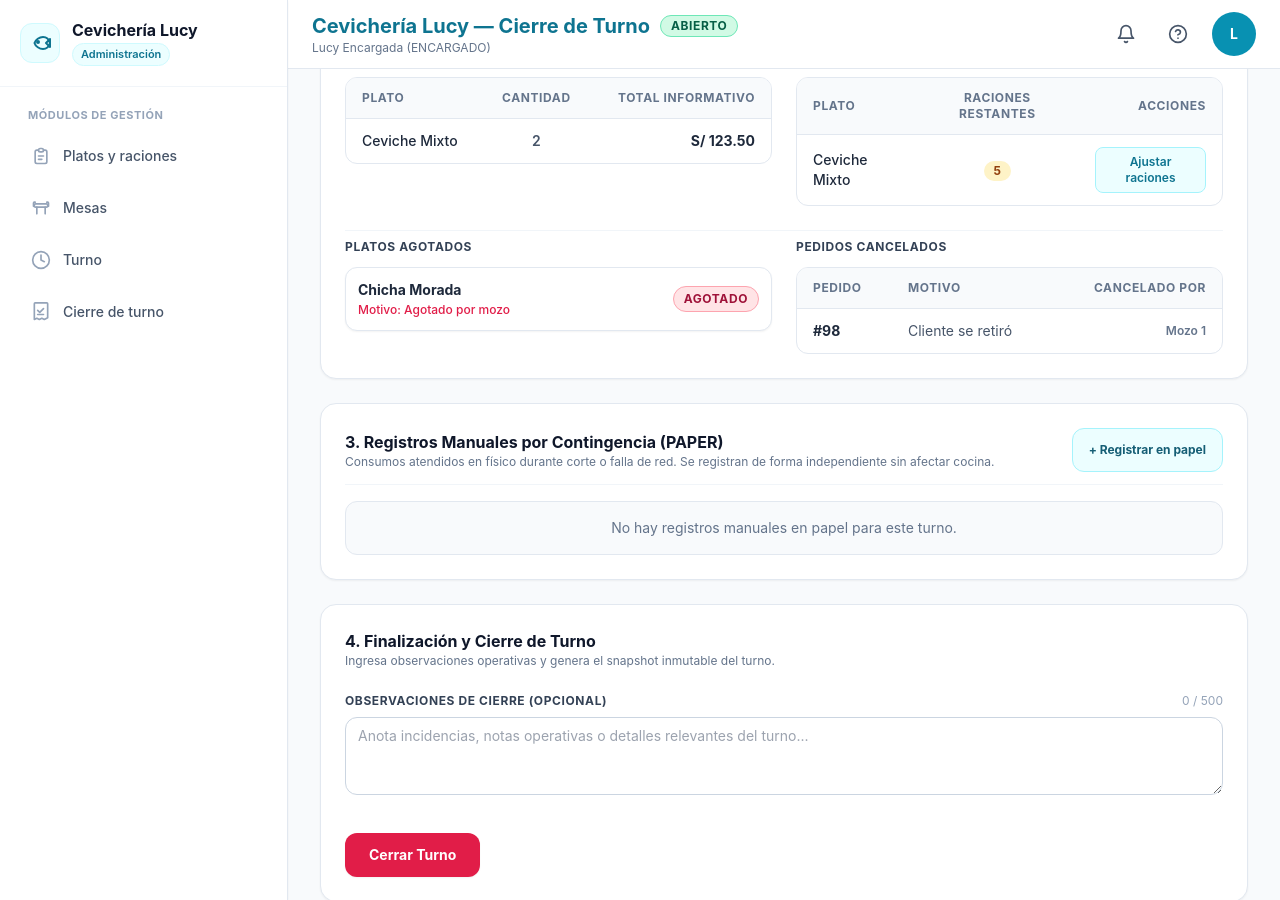
Test case: Shift Close Flow (Spec 006 Frontend) › registro manual válido e inválido: valida campos y registra comanda PAPER
The width and height of the screenshot is (1280, 900).
Later steps or results of the test are not shown.
(page scrolled)
Abrir modal de comanda en papel
Click the button "+ Registrar en papel".
click(1147, 450)  # box left=1072, top=428, right=1223, bottom=472
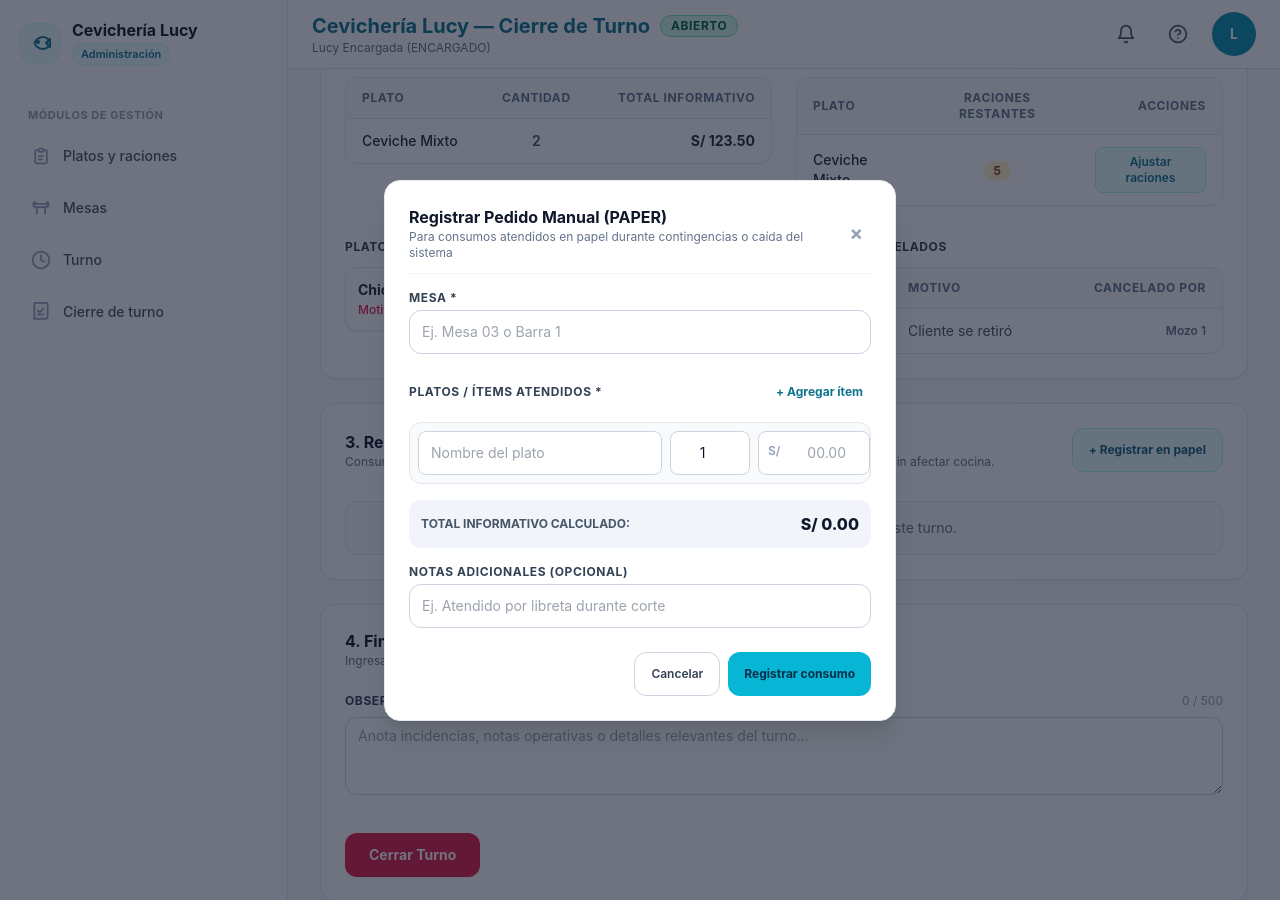
Check: the heading "Registrar Pedido Manual (PAPER)" is shown, box left=409, top=206, right=667, bottom=226
Intento inválido (mesa vacía, nombre de plato vacío)
Click the button "Registrar consumo".
click(800, 674)  # box left=728, top=652, right=871, bottom=696
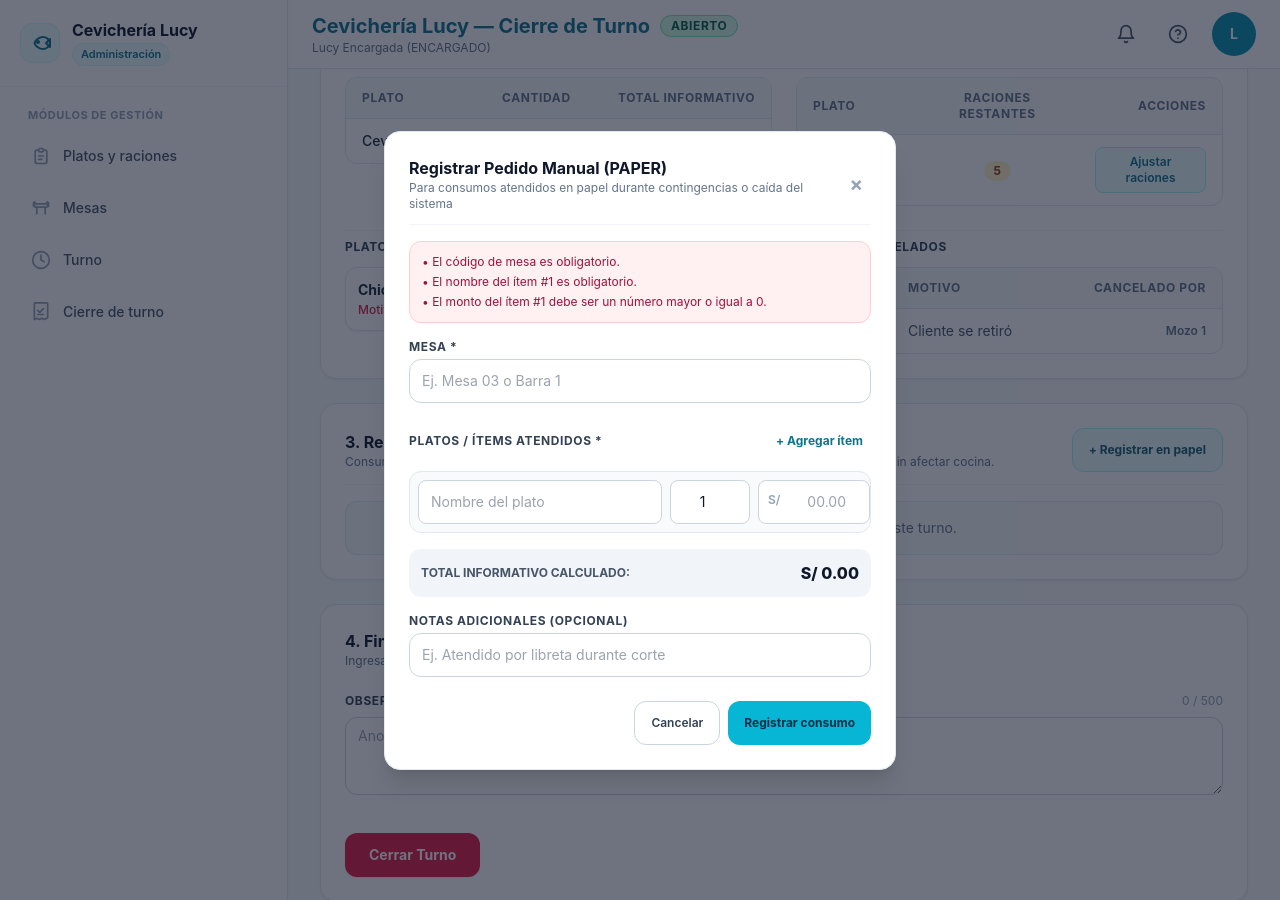
Check: the text "• El código de mesa es obligatorio." is shown, box left=422, top=254, right=620, bottom=268
Llenar campos válidos
Type "Mesa 8" into the field labelled "Mesa *".
click(640, 380); type("Mesa 8")  # box left=409, top=358, right=871, bottom=402
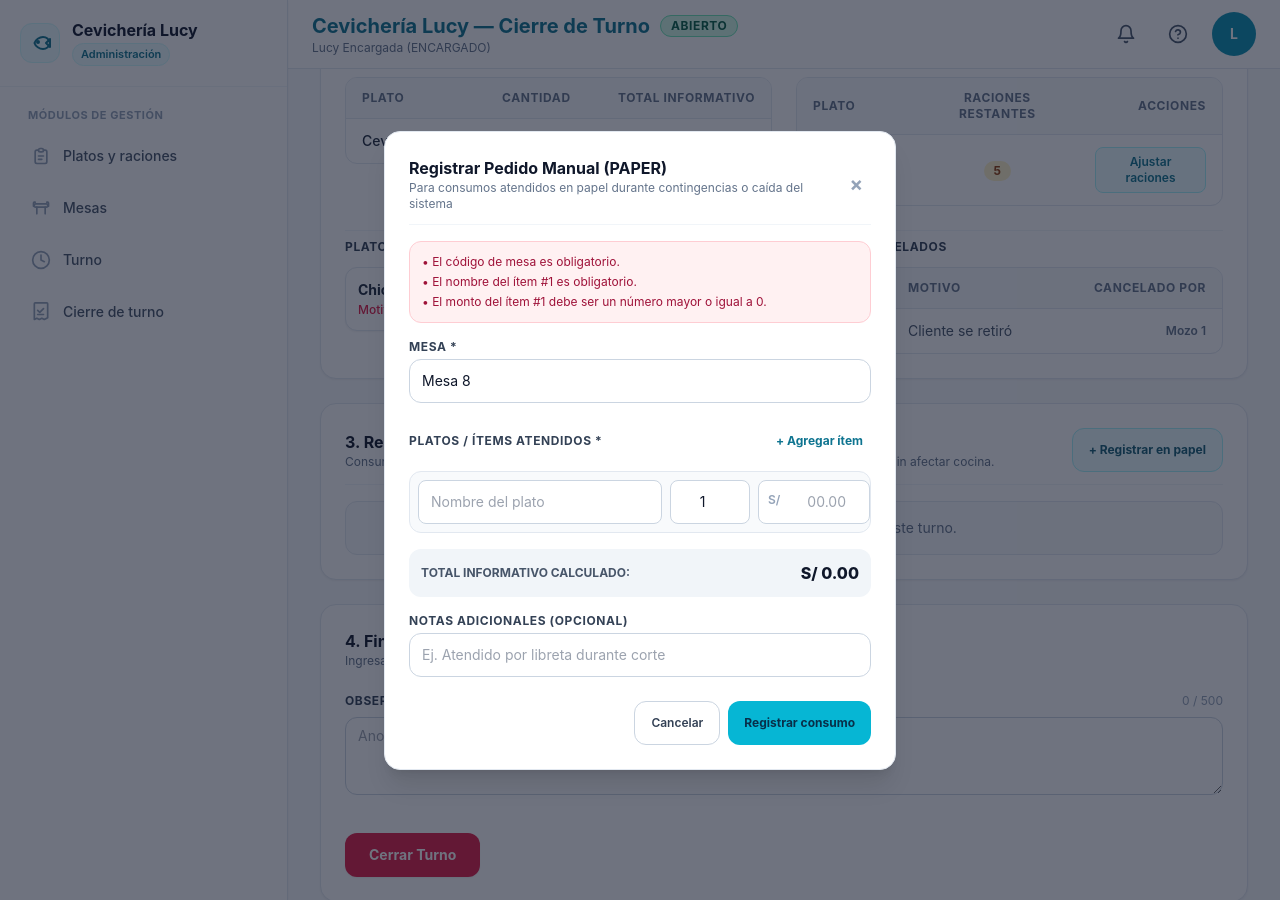
Type "Arroz con Mariscos" into the field with placeholder "Nombre del plato".
click(540, 502); type("Arroz con Mariscos")  # box left=418, top=480, right=662, bottom=524
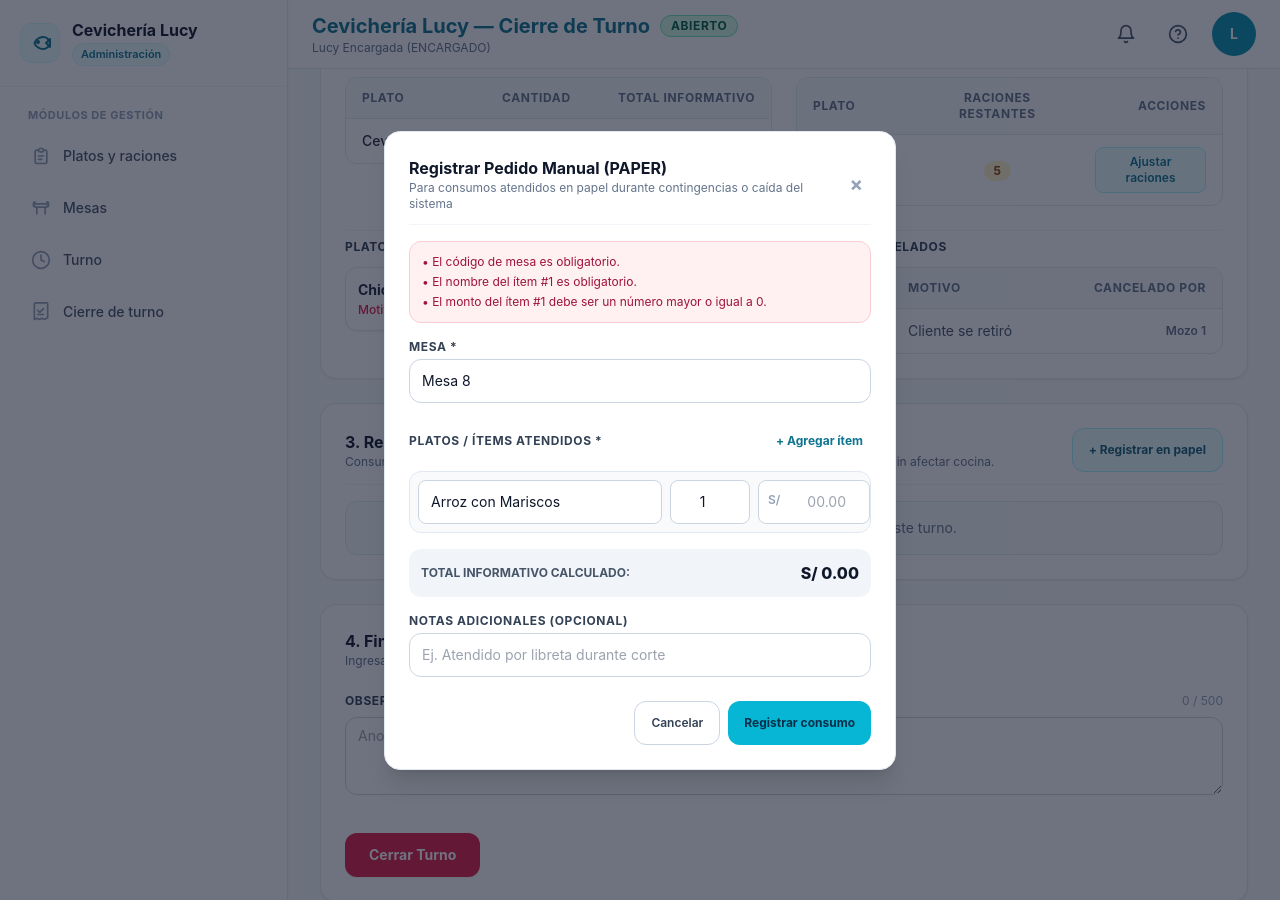
Replace the text in the number field with placeholder "Cant." with "2" at (710, 502), box left=670, top=480, right=750, bottom=524
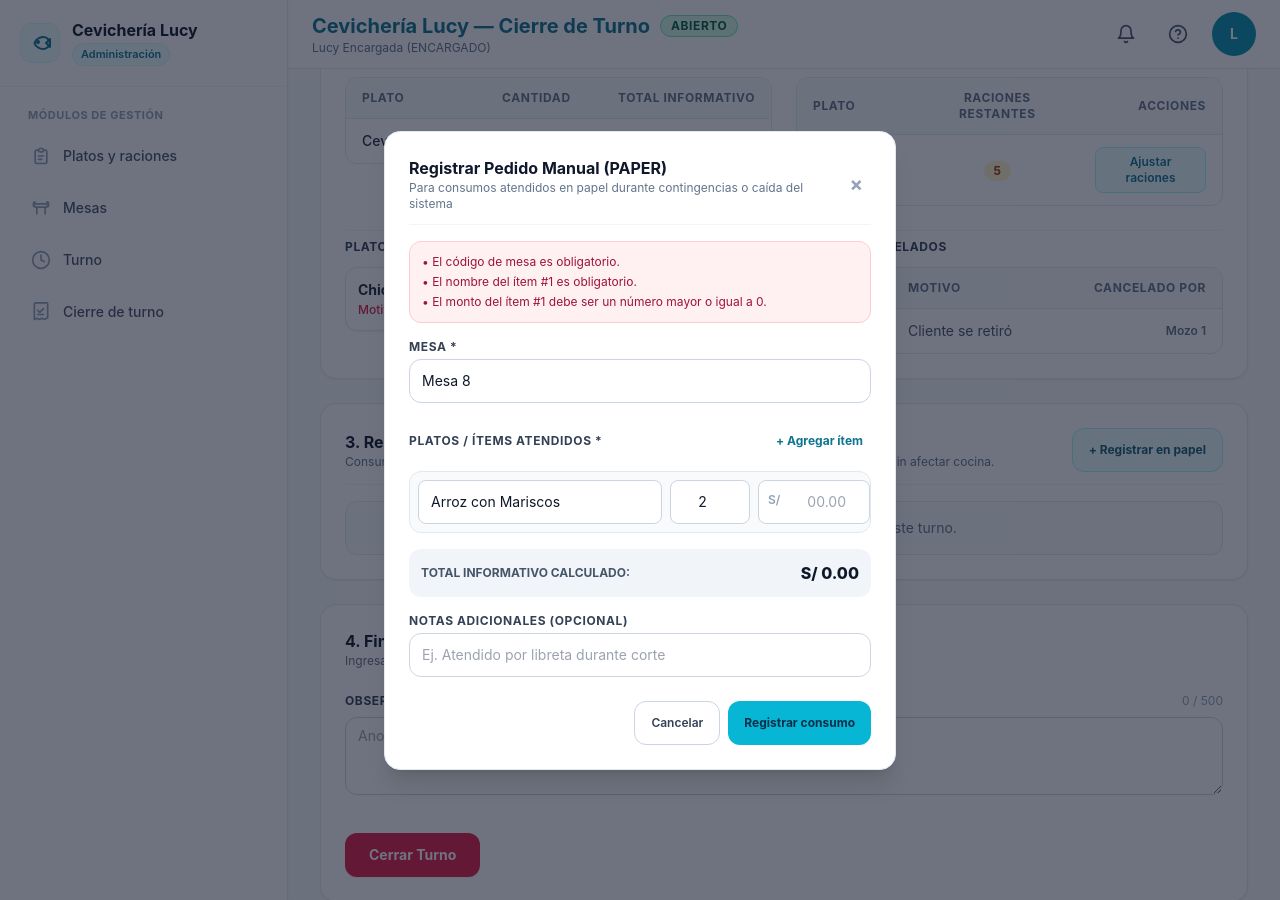
Type "60.00" into the number field with placeholder "00.00".
click(814, 502); type("60.00")  # box left=758, top=480, right=870, bottom=524
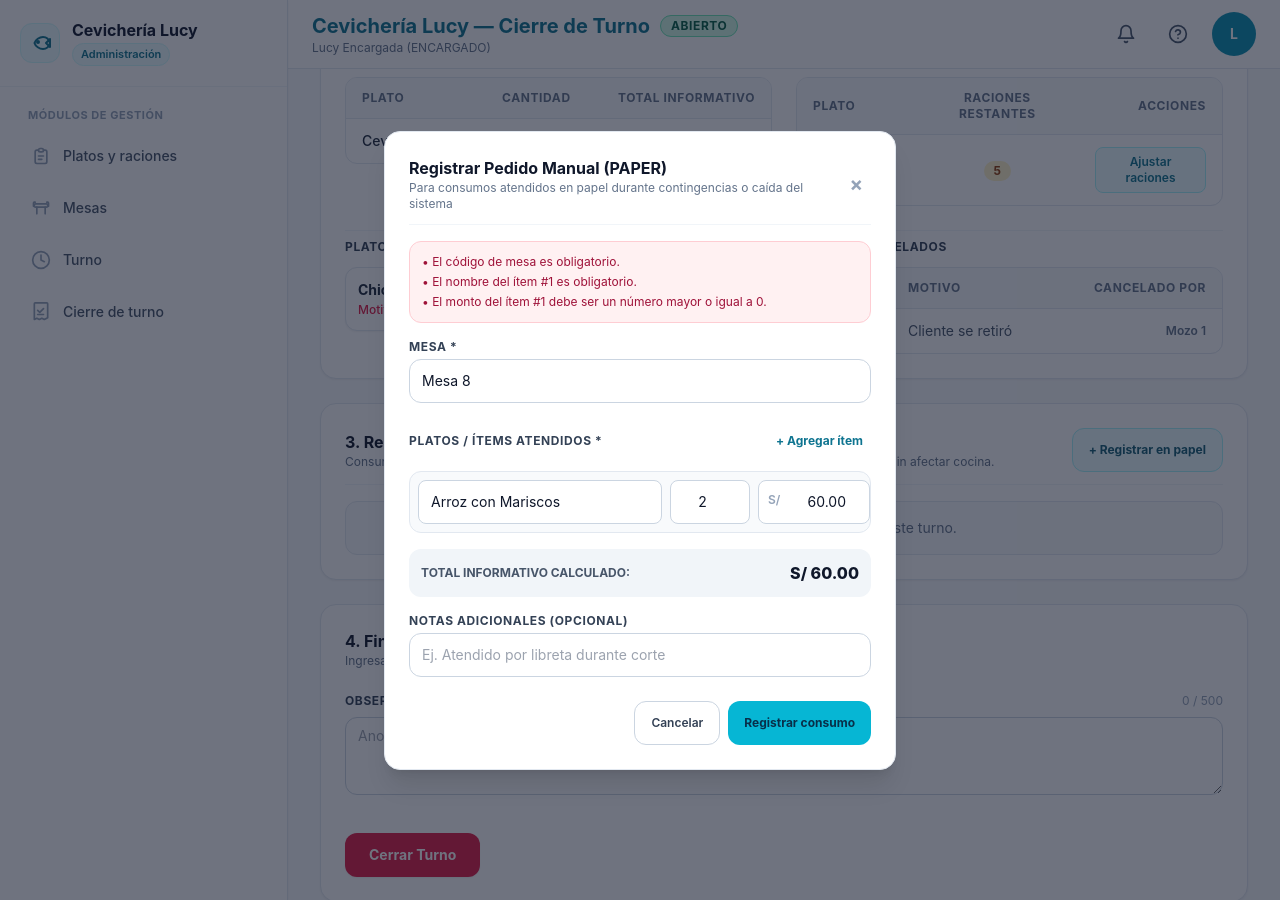
Check: the text "S/ 60.00" is shown, box left=790, top=560, right=859, bottom=584
